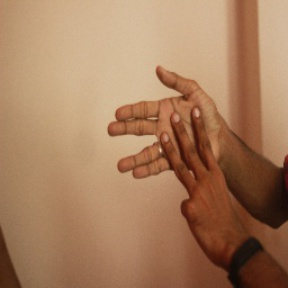M: (109, 65, 224, 198)
